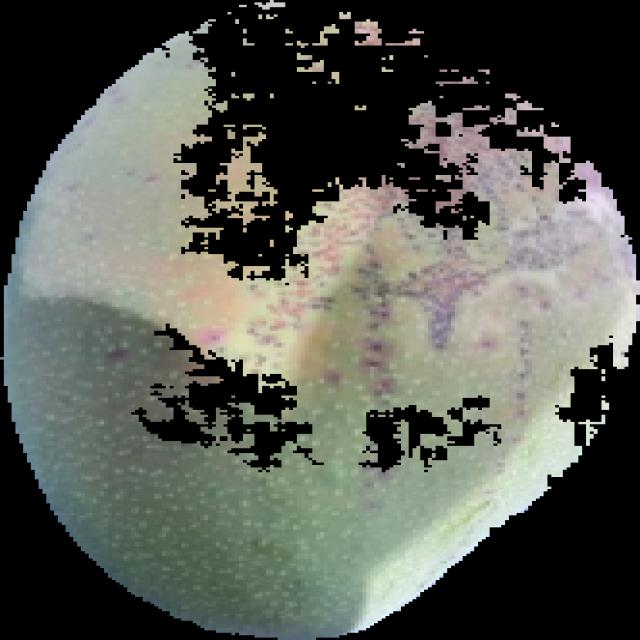Mango-sano: (0, 32, 639, 639)
